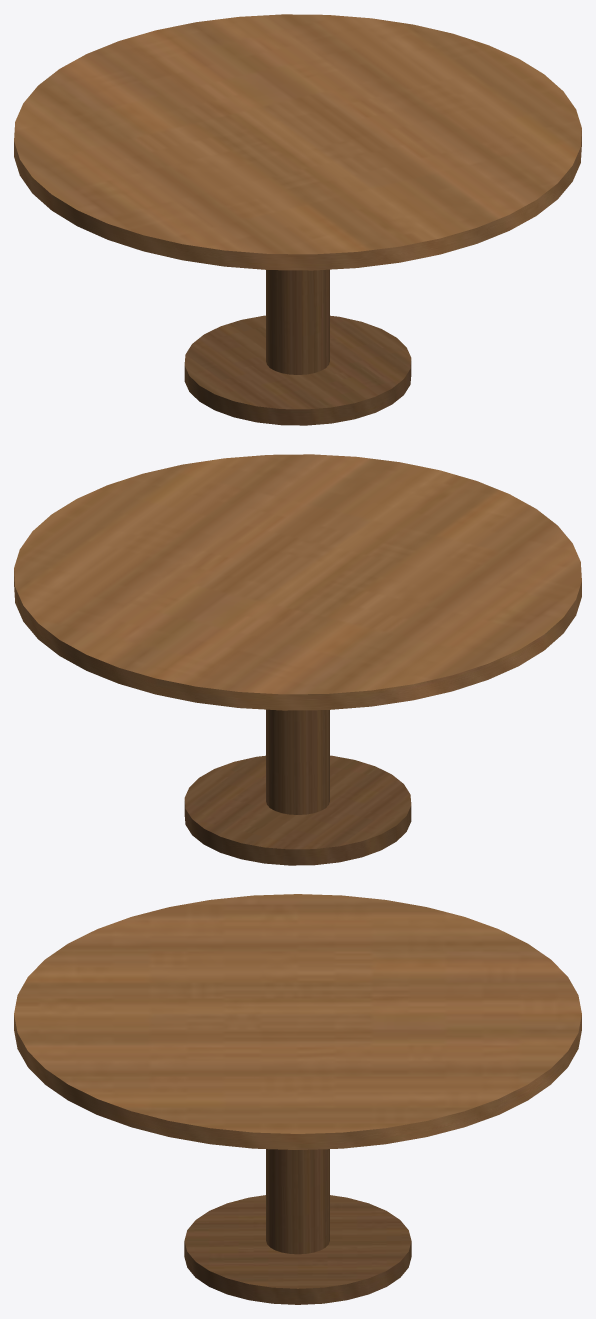
Rendered from dining_table.glb.
The picture shows the model from 3 angles, top to bottom: view 1: azimuth 30°, elevation 25°; view 2: azimuth 150°, elevation 25°; view 3: azimuth 270°, elevation 25°; orthographic projection.
Parts seen in each view (by area): view 1: top.002, base.002, column; view 2: top.002, base.002, column; view 3: top.002, base.002, column.
Part boxes in pixels (x1,y1,x2,y2): top.002: (14, 14, 581, 270); base.002: (184, 315, 411, 425); column: (266, 269, 329, 374); top.002: (14, 454, 581, 710); base.002: (184, 755, 411, 865); column: (266, 709, 329, 814); top.002: (14, 894, 581, 1149); base.002: (184, 1195, 411, 1304); column: (266, 1149, 329, 1254).
Bounding box in the file's own units: 1.6 × 0.755 × 1.6.
Materials: 2 (2 with a texture image).
